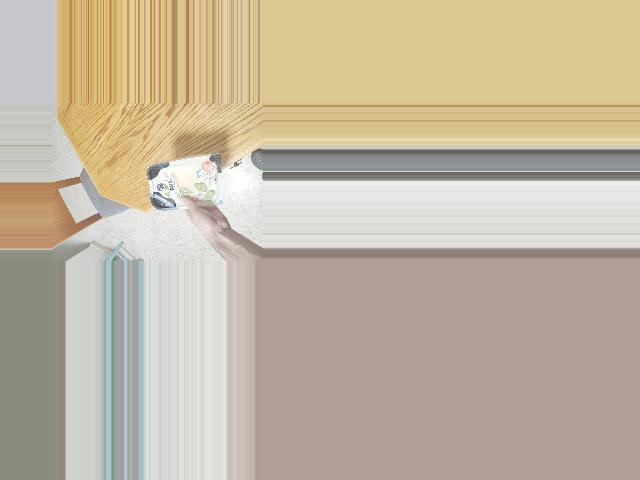cheese: (149, 152, 223, 219)
